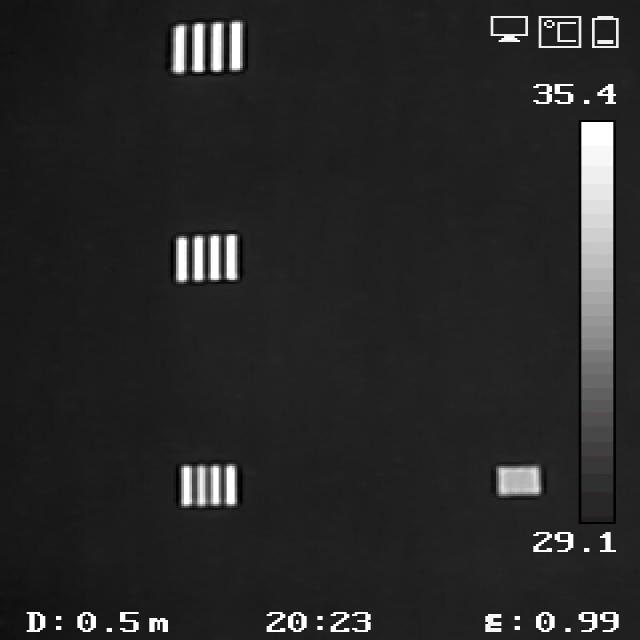Distinguishable 4-bar target: (170, 25, 250, 79), (173, 229, 243, 283), (175, 461, 240, 509)
Indistinguishable 4-bar target: (493, 463, 543, 498)
